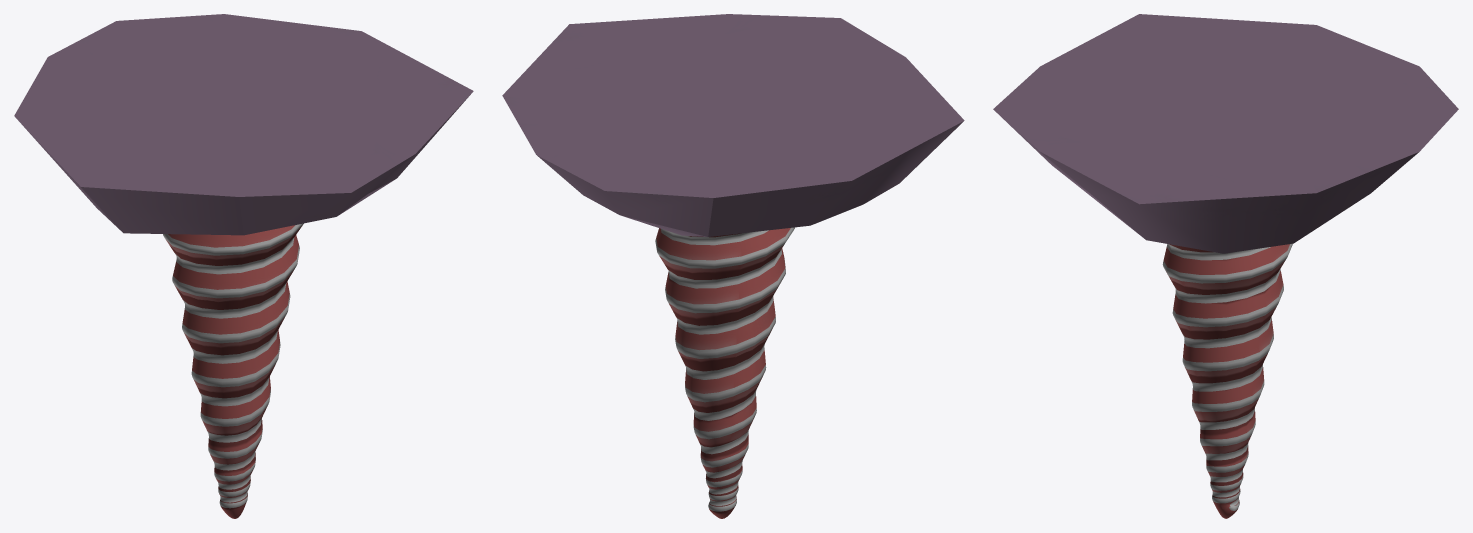
The model's file is m_environment2_stalagmite_3_je_4.fbx.
3 renders of one model, left to right at view 1: azimuth 30°, elevation 25°; view 2: azimuth 150°, elevation 25°; view 3: azimuth 270°, elevation 25°, orthographic.
Parts seen in each view (by area): view 1: polySurface296; view 2: polySurface296; view 3: polySurface296.
Part boxes in pixels (left/top/right/bottom): polySurface296: left=14, top=14, right=473, bottom=518; polySurface296: left=502, top=14, right=964, bottom=518; polySurface296: left=993, top=14, right=1458, bottom=518.
Bounding box in the file's own units: 9.05 × 9.08 × 9.37.
